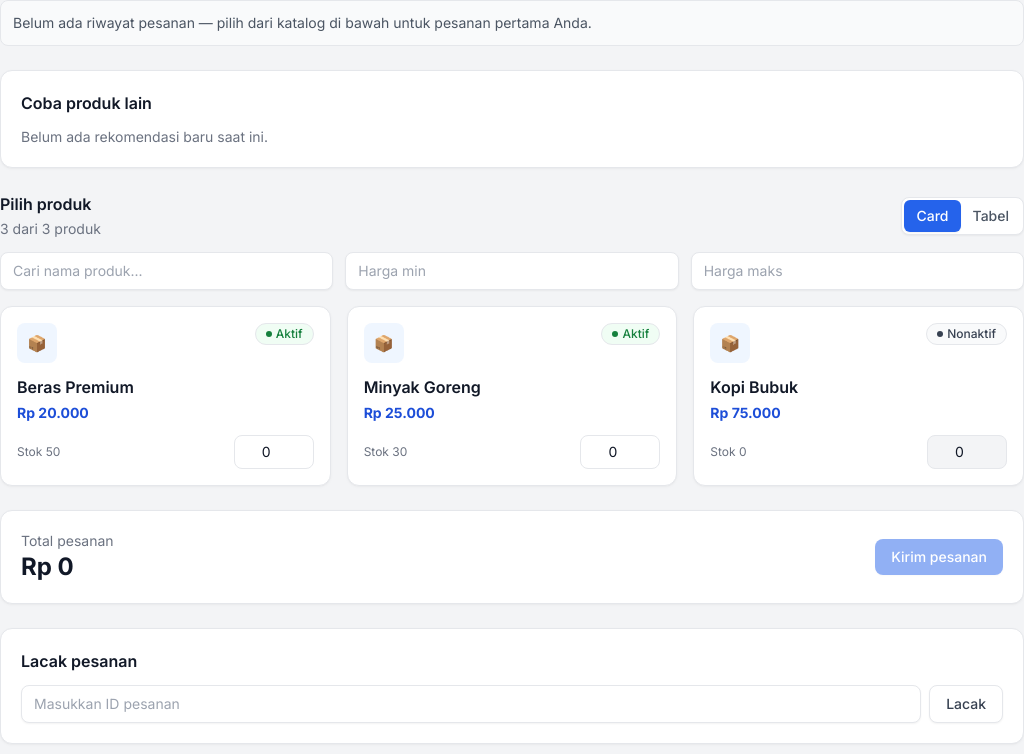
Scenario: OrderForm — view mode + product filters › filters by price range (min + max)
Expected: the heading "Beras Premium" is shown, left=17, top=377, right=134, bottom=397
Type "22000" into the number field named "Harga minimum". click: (512, 271)
box: left=345, top=252, right=679, bottom=290
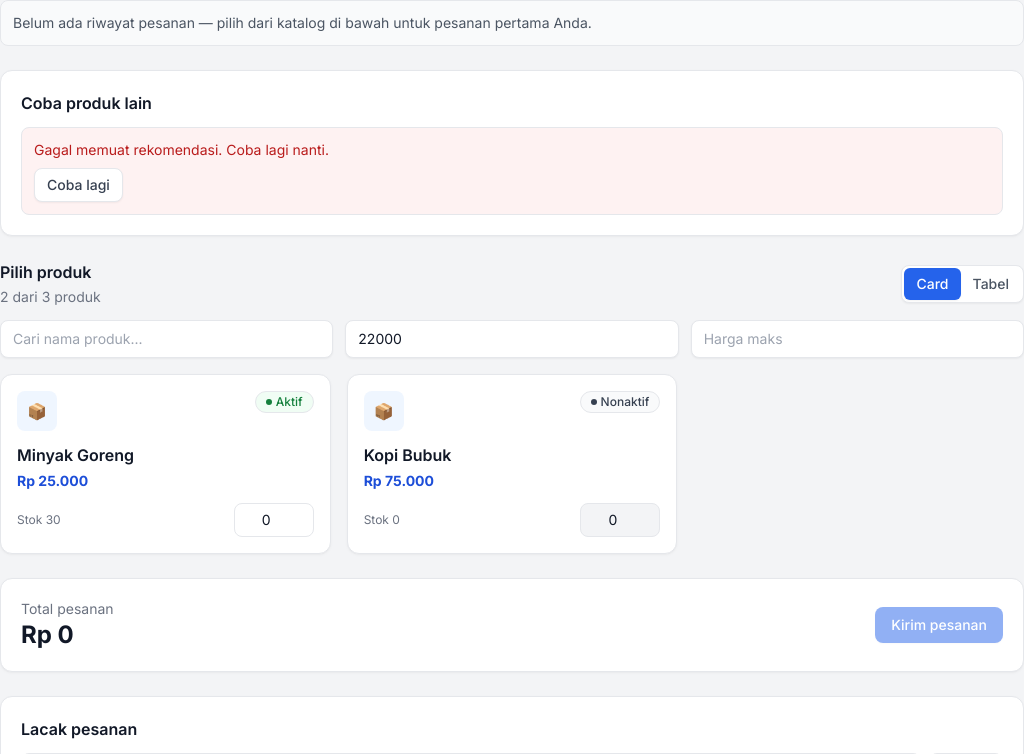
Type "30000" into the number field named "Harga maksimum". click: (857, 339)
box: left=691, top=320, right=1023, bottom=358
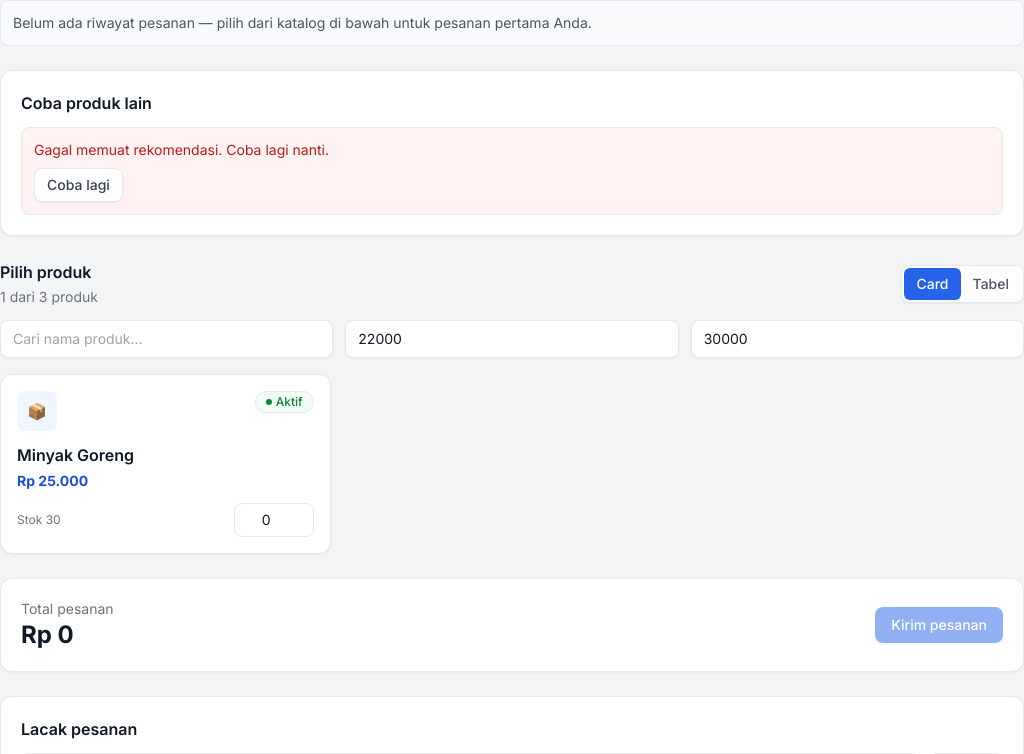
Expected: the heading "Minyak Goreng" is shown, left=17, top=445, right=134, bottom=465
Expected: the heading "Kopi Bubuk" is gone
